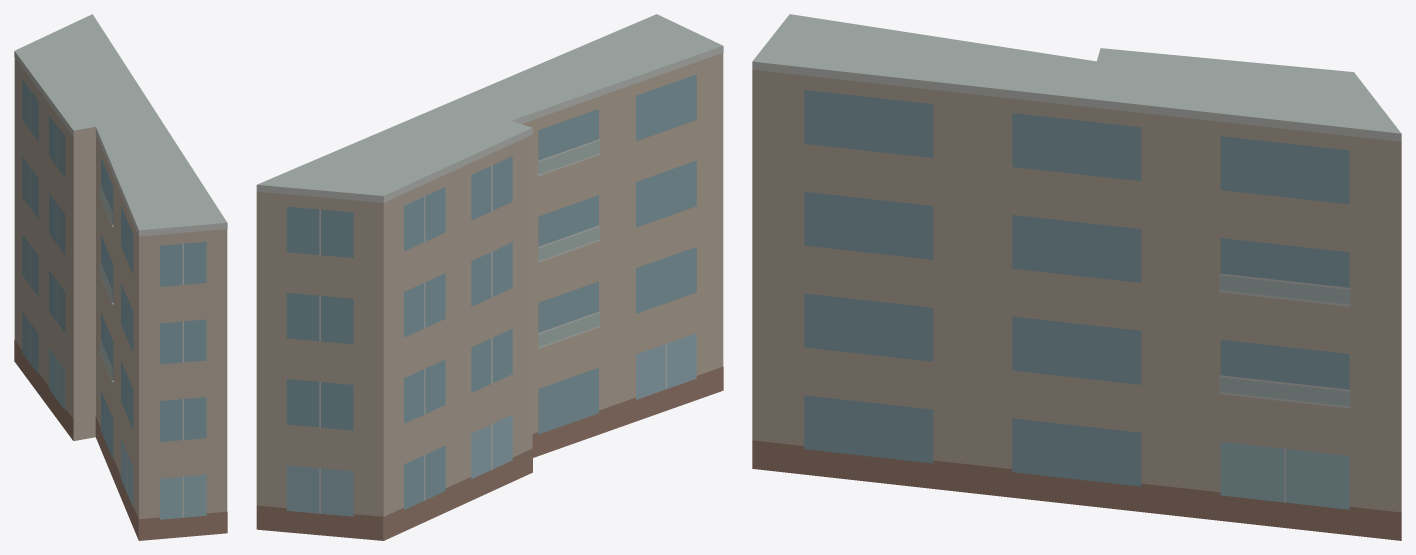
The model's file is survey-upis-32726160.glb.
The picture shows the model from 3 angles, left to right: view 1: azimuth 30°, elevation 25°; view 2: azimuth 150°, elevation 25°; view 3: azimuth 270°, elevation 25°; orthographic projection. The views are drawn at different scales.
Visible parts, largest first — view 1: survey-upis-32726160.tmp; view 2: survey-upis-32726160.tmp; view 3: survey-upis-32726160.tmp.
Boxes of the visible parts, <box> form: survey-upis-32726160.tmp: <box>14,14,227,540</box>; survey-upis-32726160.tmp: <box>256,14,723,540</box>; survey-upis-32726160.tmp: <box>752,14,1401,540</box>.
Size of the model in its own units: 7.7 by 12.2 by 17.65.
